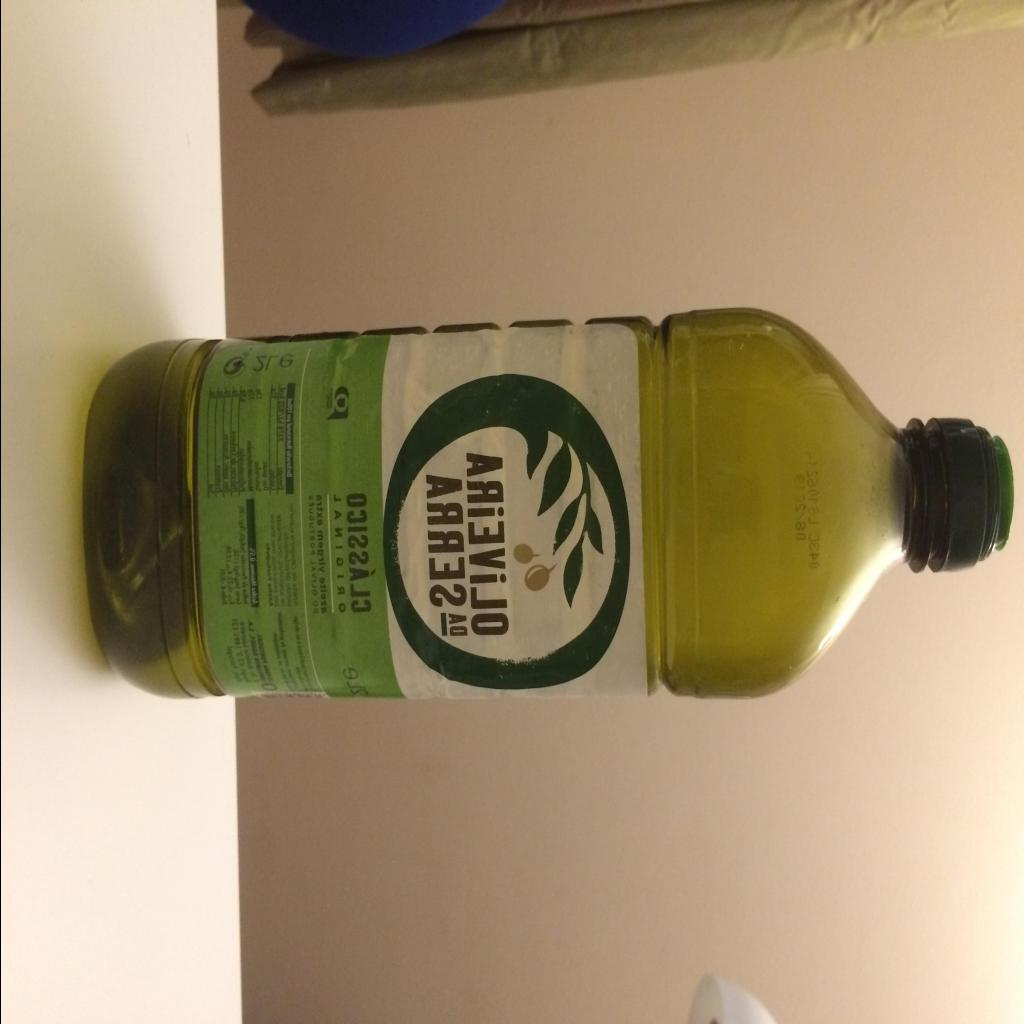Other plastic container: (82, 308, 1014, 700)
